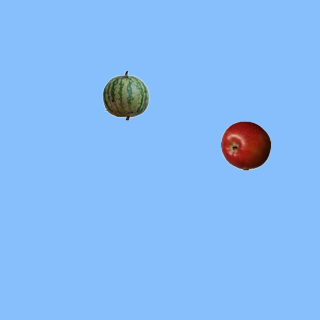Apple Braeburn: (220, 120, 270, 170)
Watermelon: (100, 70, 150, 120)
